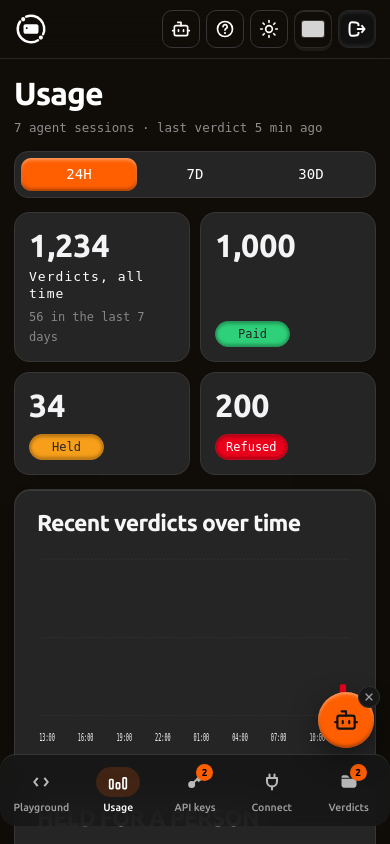
Test: the dashboard › has a tab bar for phones that reaches every pane and says where you are
This screenshot has width=390, height=844.
Expected: the heading "Usage" is shown, [14,75,103,111]
Click the button "2 Verdicts" at x=349, y=791, box [313,761,384,820]
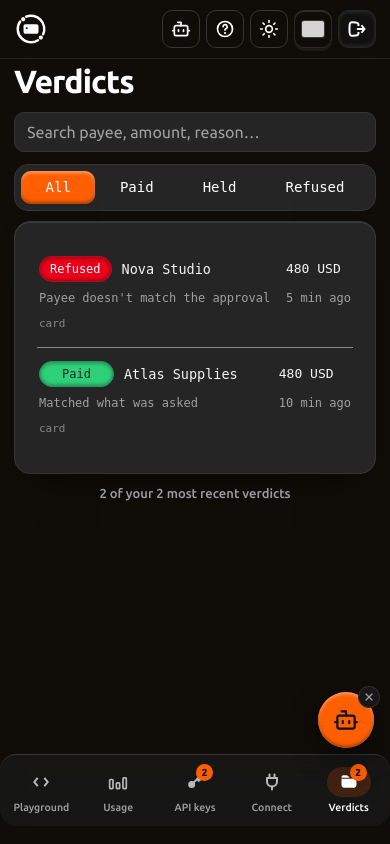
Now the heading "Verdicts" is shown, box [14,63,134,99]
